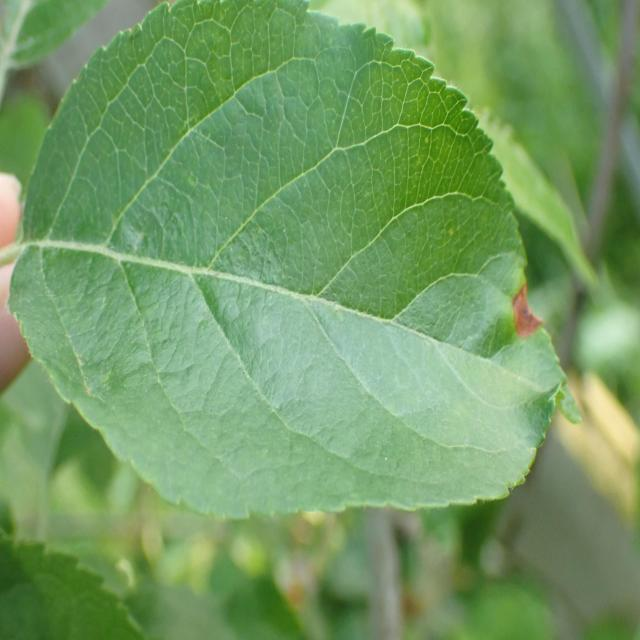Black Rot: (488, 256, 550, 364)
